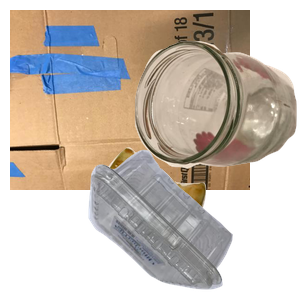cardboard: (10, 10, 250, 190)
glass: (132, 38, 300, 199)
plastic: (86, 147, 300, 300)
trash: (96, 145, 295, 300)
